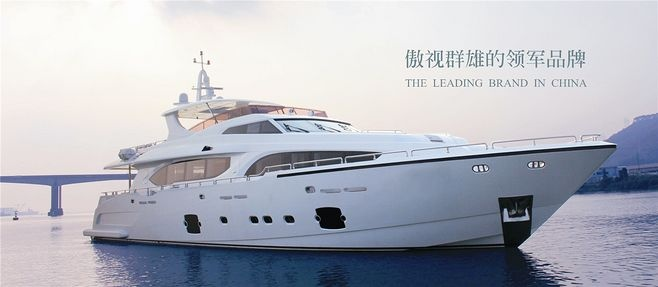yacht: (76, 49, 617, 251)
